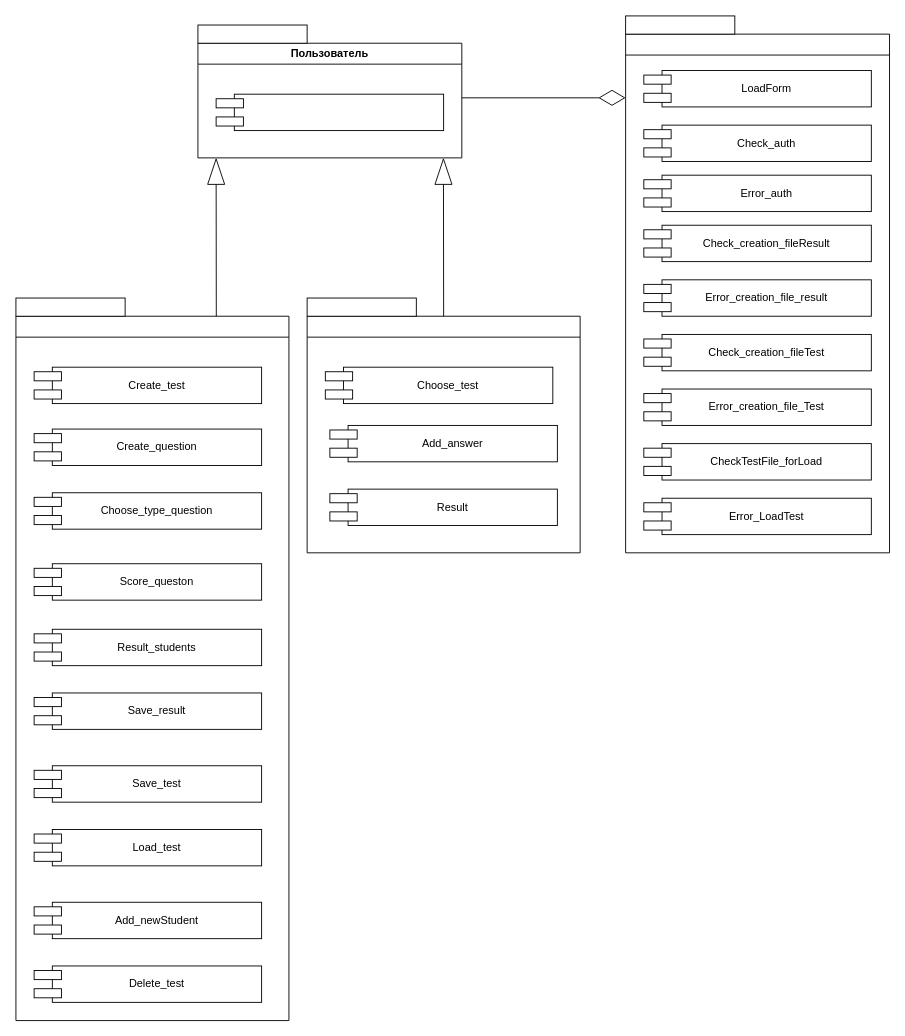
The diagram is 905 pixels wide and 1036 high, and some of its shapes have lost their labels. Each missing label, with the box of its shape:
Authorization: (233, 93, 444, 131)
Система: (625, 33, 890, 553)
Ученик: (306, 315, 580, 553)
Учитель: (15, 315, 289, 1021)
